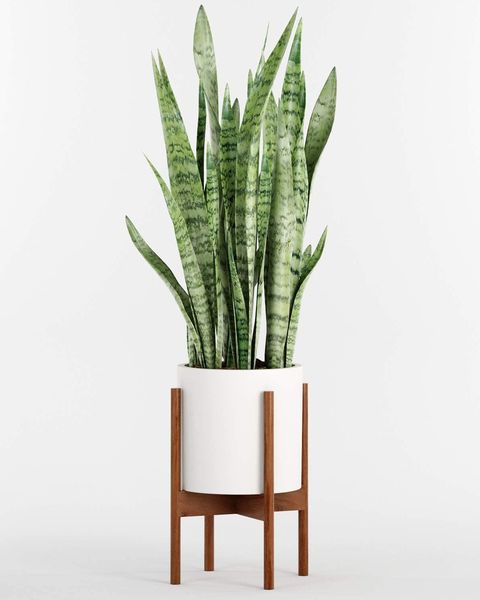plant: (121, 1, 338, 584)
